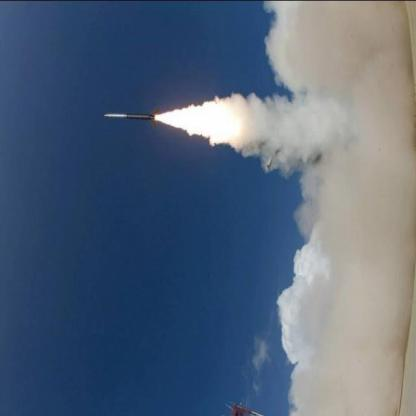MIL_TBM: (103, 111, 161, 128)
